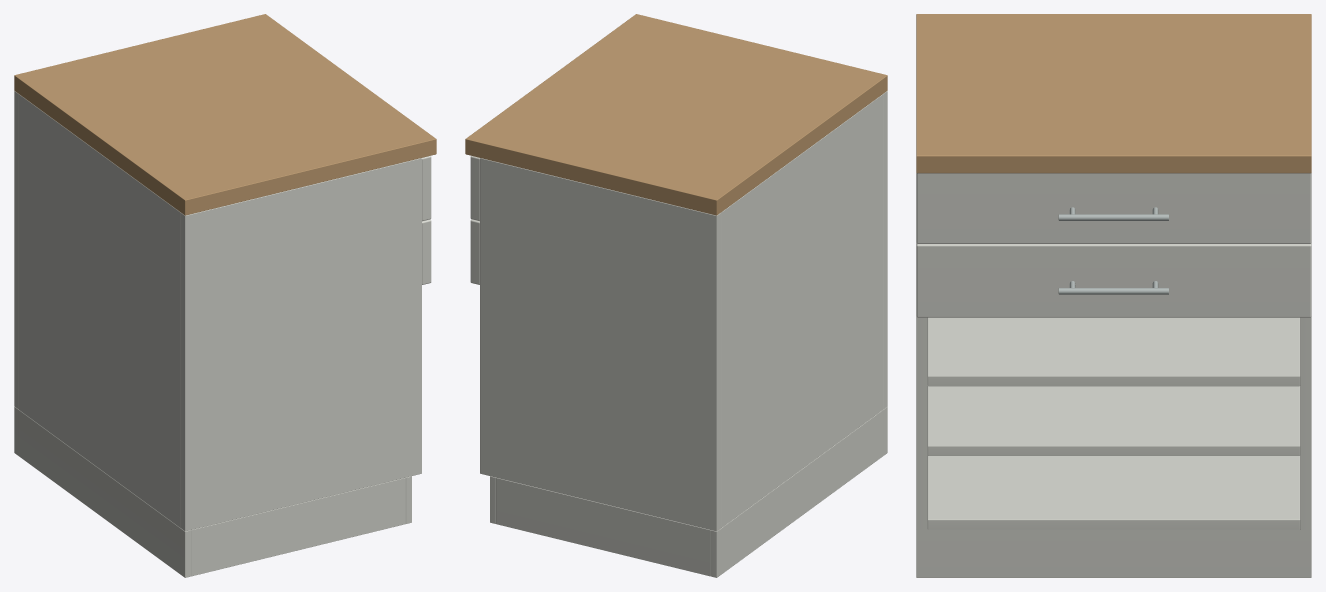
File: fixture_cabinet_b01.glb
The picture shows the model from 3 angles, left to right: view 1: azimuth 30°, elevation 25°; view 2: azimuth 150°, elevation 25°; view 3: azimuth 270°, elevation 25°; orthographic projection. The views are drawn at different scales.
Bounding box in the file's own units: 0.6787 × 0.9285 × 0.762.
